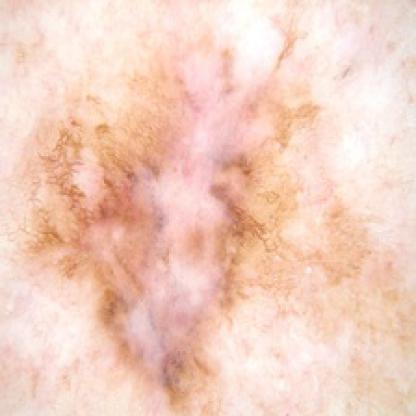malignant: (43, 65, 321, 371)
